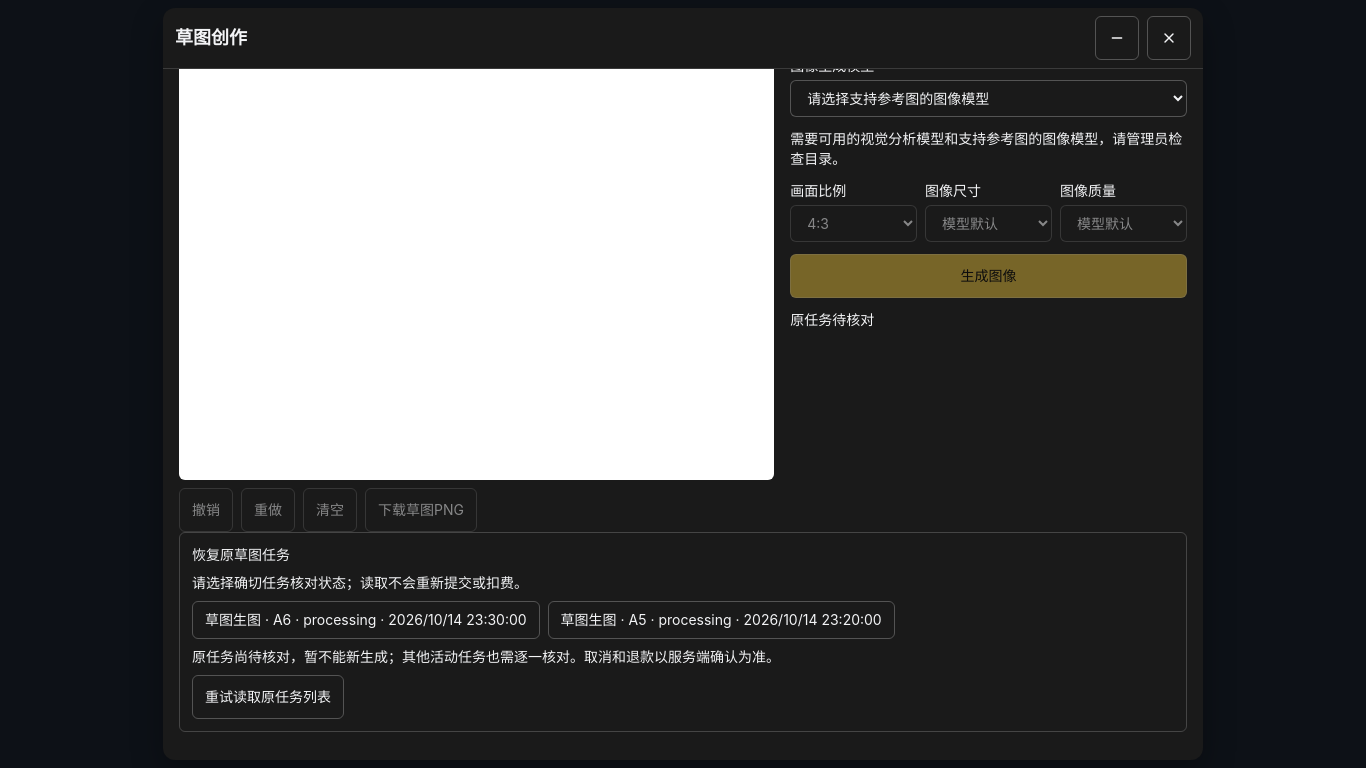
Test: opted-in sketch drawer recovers the original paid task without resubmission › requires an exact A5 choice among candidates, real-polls it with empty drawing/models, and cancels only on explicit server confirmation
(page scrolled)
Expected: the button "草图生图 · A6 · processing · 2026/10/14 23:30:00" is shown, [192,601,540,639]
Expected: the button "取消任务（等待确认）" is not shown
Click the button "草图生图 · A5 · processing · 2026/10/14 23:20:00" at (721, 620), box [548,601,895,639]
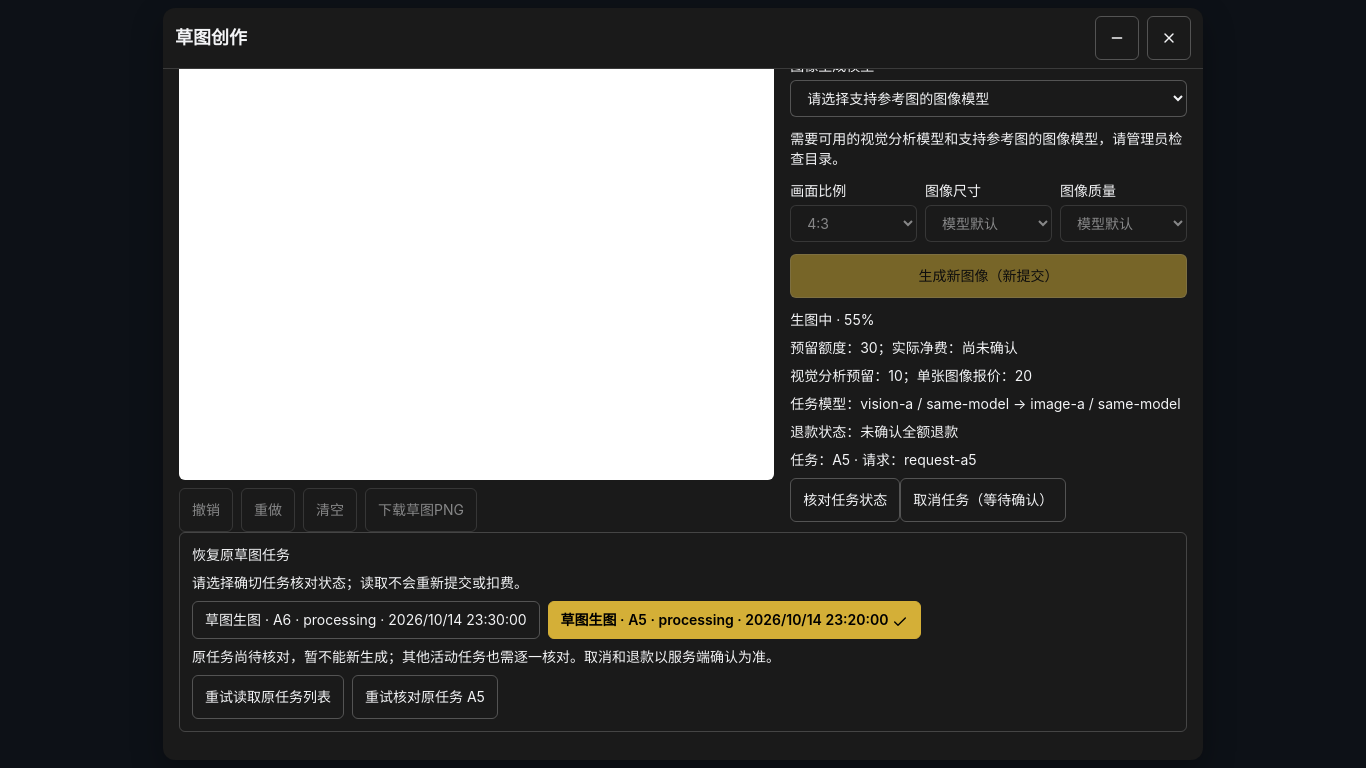
Now the text "生图中 · 55%" is shown, box [790,311,874,328]
Now the text "预留额度：30；实际净费：尚未确认" is shown, box [790,339,1018,356]
Now the text "视觉分析预留：10；单张图像报价：20" is shown, box [790,367,1032,384]
Click the button "取消任务（等待确认）" at (983, 500), box [900,478,1066,522]
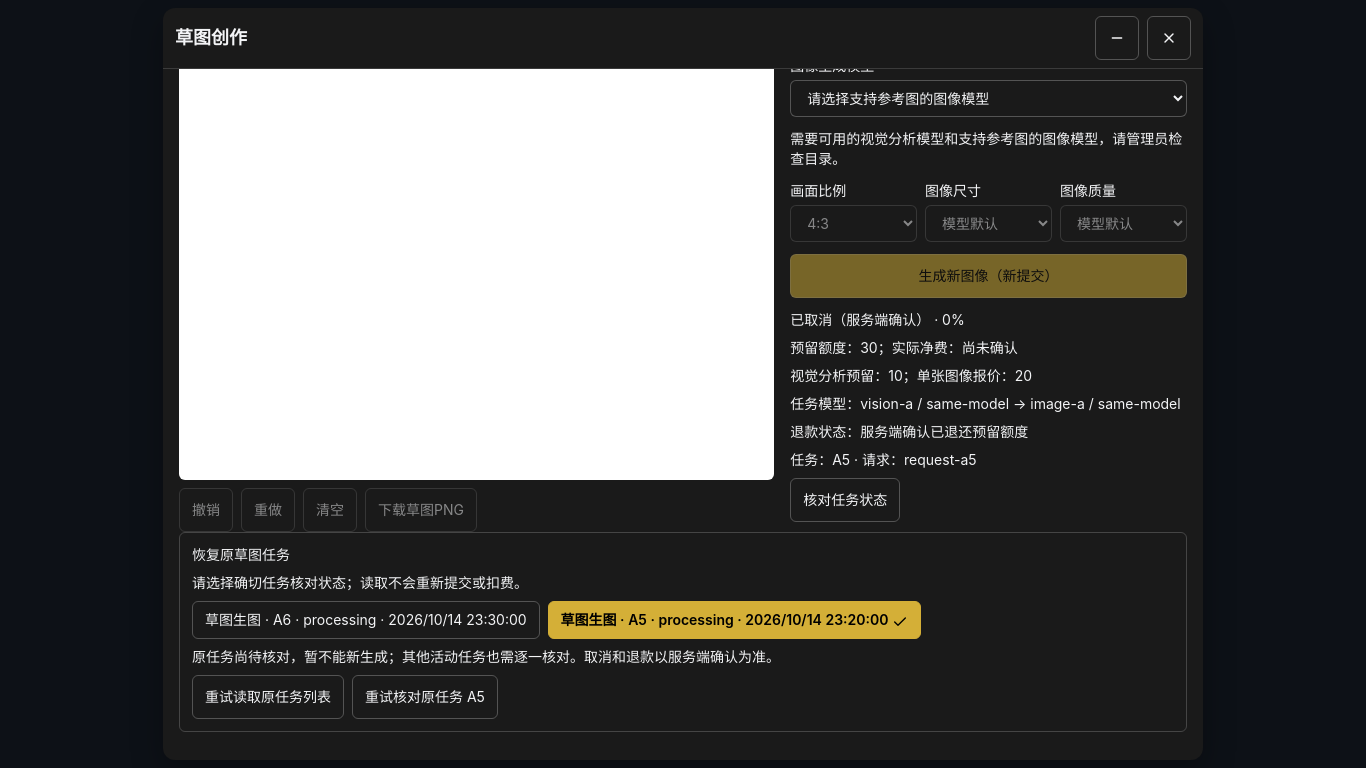
Now the text "已取消（服务端确认） · 0%" is shown, box [790,311,965,328]
Now the text "退款状态：服务端确认已退还预留额度" is shown, box [790,423,1028,440]
